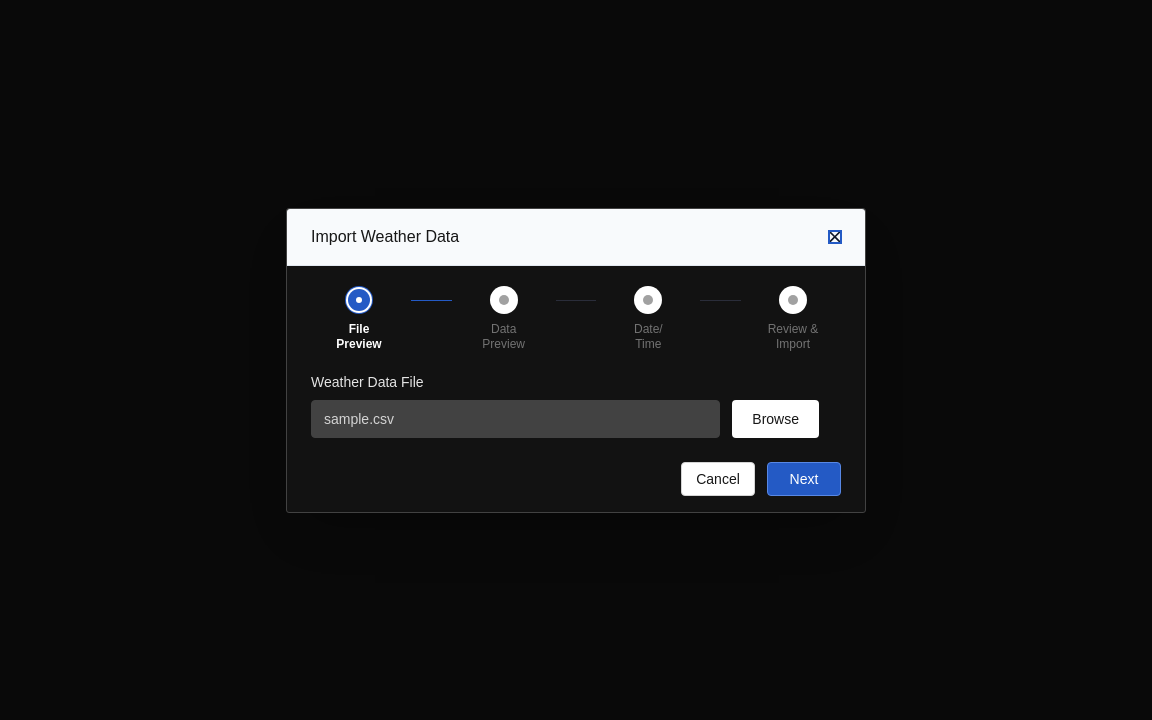
Test case: <ImportWizard /> › Back button returns to the previous step
This screenshot has width=1152, height=720.
Click the button "Next": (804, 478) [767,462,841,496]
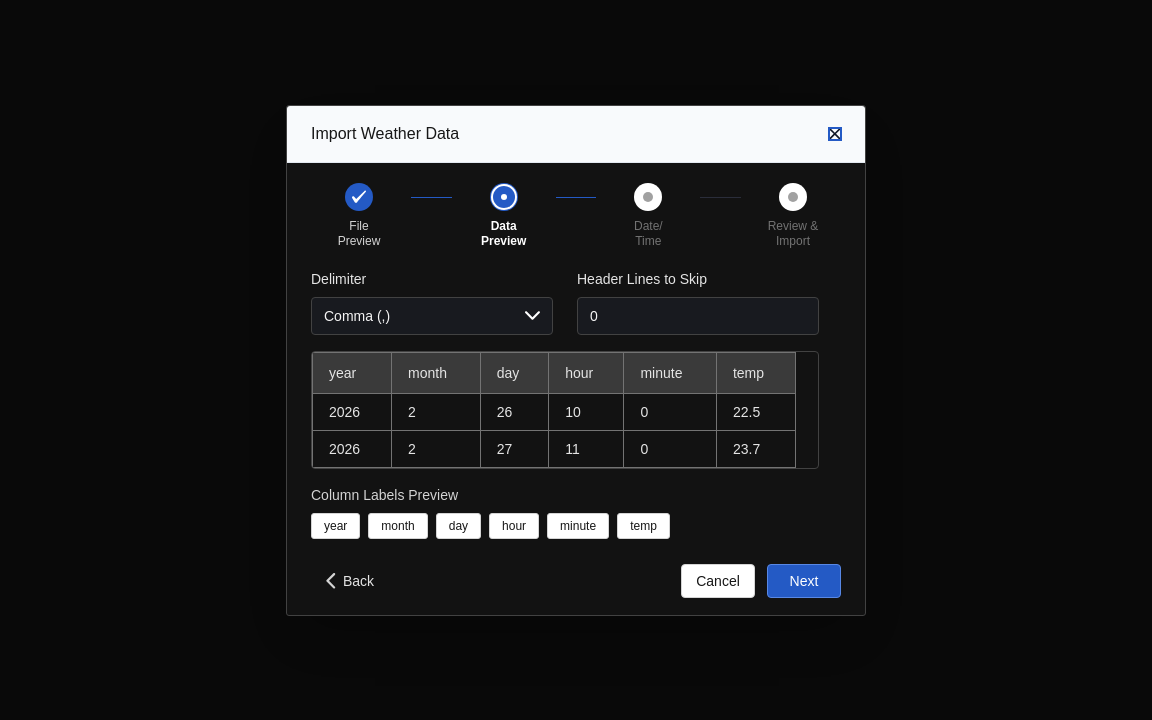
Check: the text "Delimiter" is shown, box [311,270,366,286]
Click the button "Back": (349, 580) [311,562,386,598]
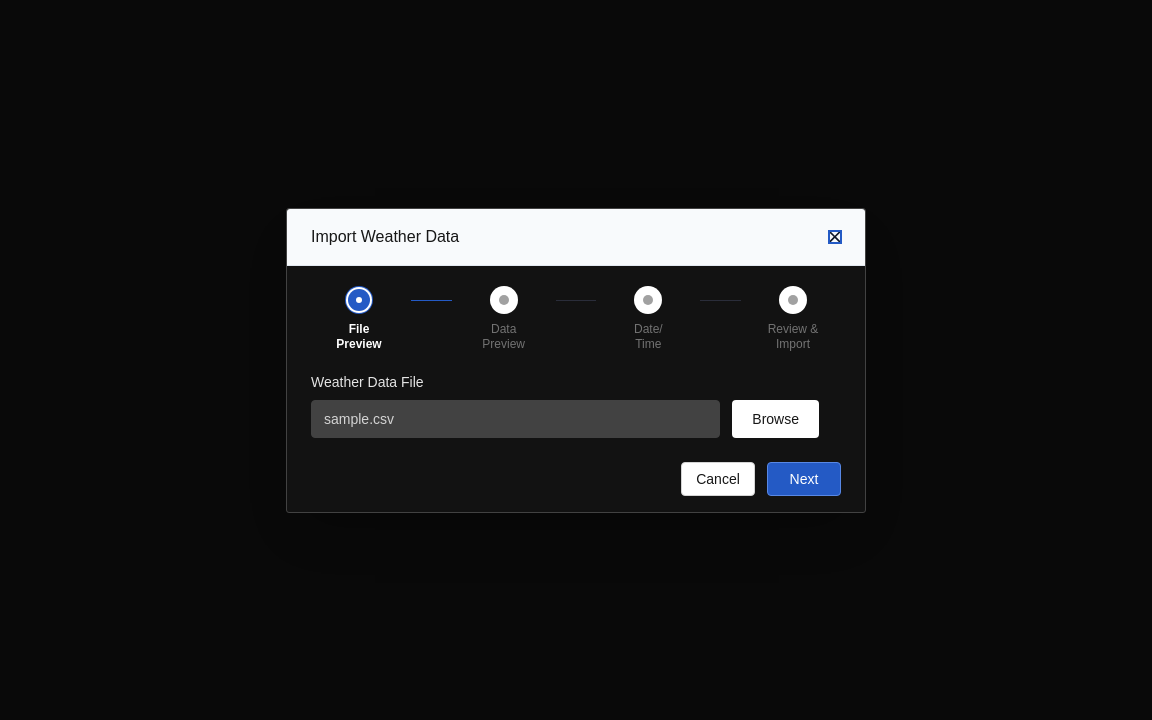
Check: the text "Weather Data File" is shown, box [311,374,424,390]
